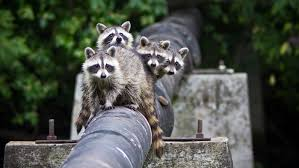raccoon: (83, 46, 152, 108), (92, 19, 131, 47), (140, 38, 170, 72), (159, 45, 187, 78)
